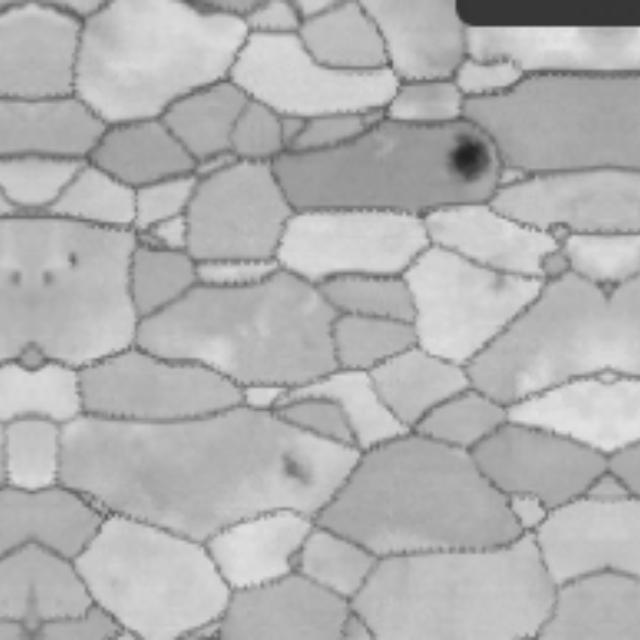good_void: (436, 127, 490, 187), (278, 454, 319, 489), (489, 274, 514, 297), (65, 249, 79, 272), (40, 269, 54, 289), (8, 269, 22, 289)
